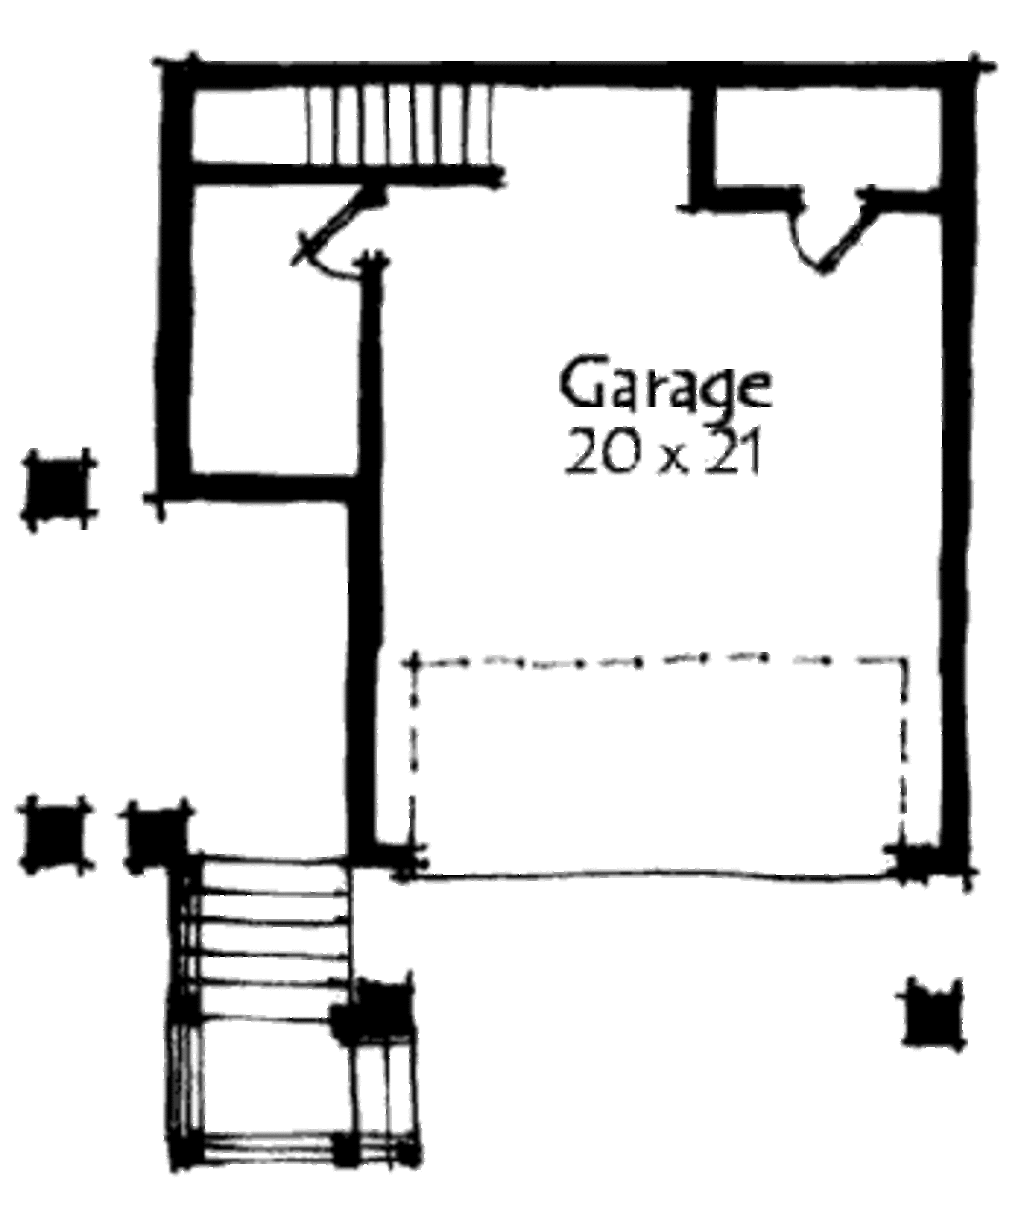door: (281, 177, 401, 278), (785, 188, 888, 282)
stairs: (162, 845, 412, 1166), (190, 78, 540, 175)
